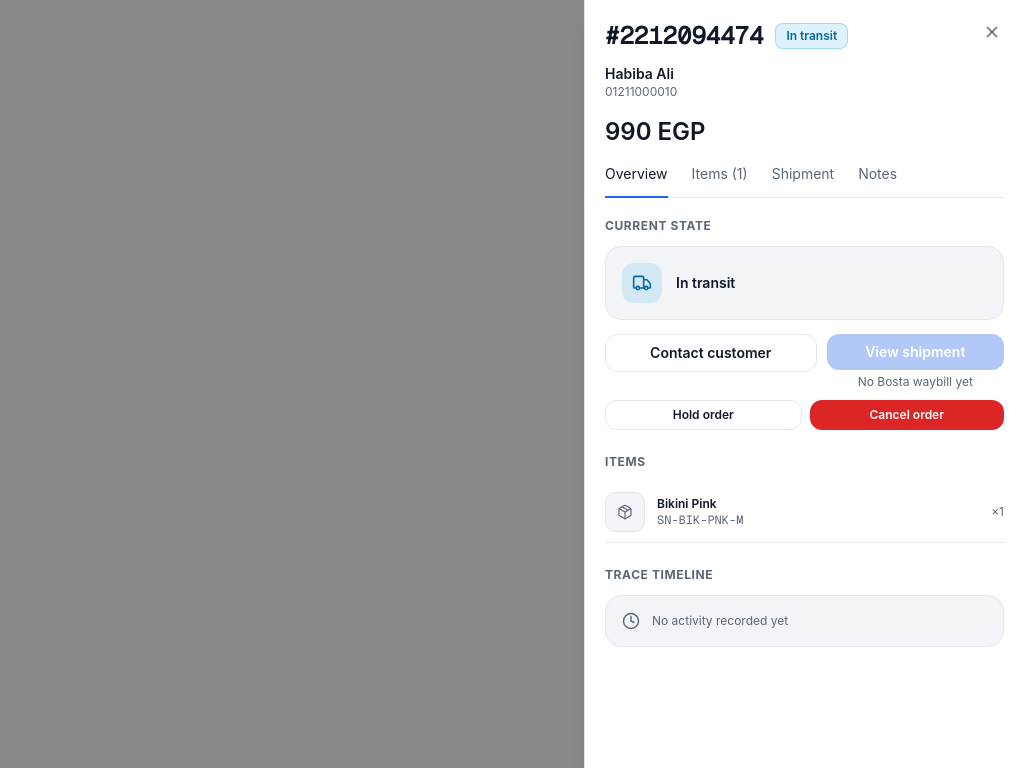
Scenario: add note: typing then submitting posts the note and it appears in the list
The width and height of the screenshot is (1024, 768).
Expected: the heading "#2212094474" is shown, [605, 20, 763, 52]
Step 1. Click the button "Notes" → x=878, y=181, box [858, 164, 897, 198]
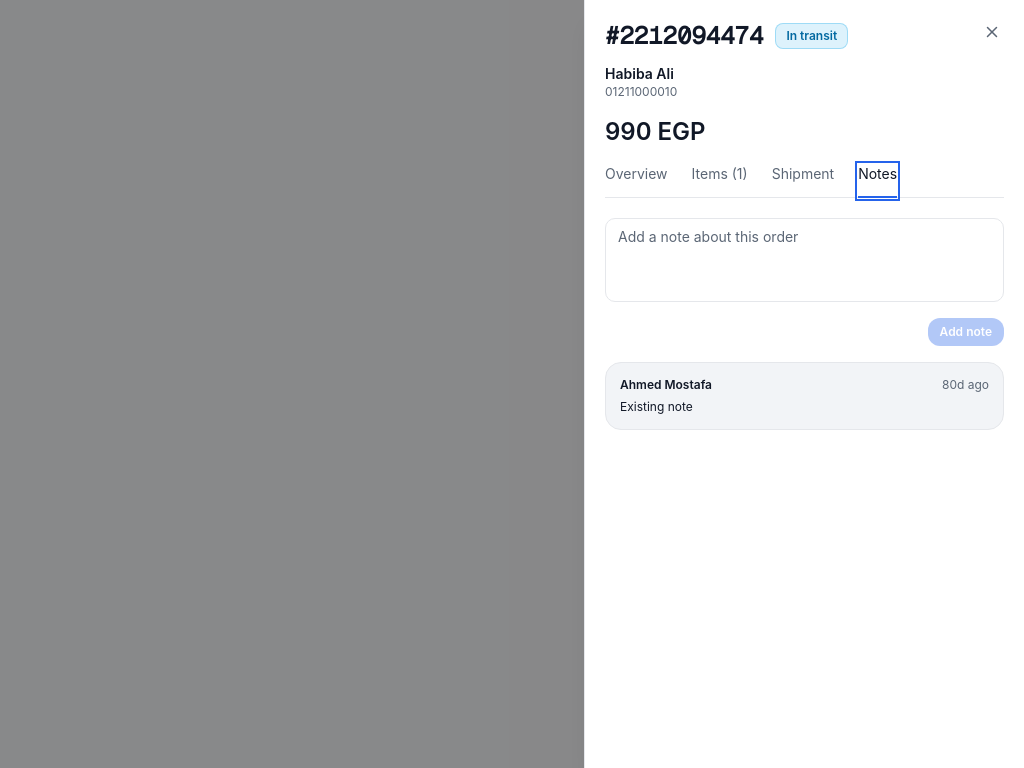
Result: the text "Existing note" is shown at [620, 399, 693, 414]
Result: the button "Add note" is disabled at [928, 318, 1004, 346]
Step 2. Type "Customer wants delivery after 6pm" into the text box with placeholder "Add a note about this order" → x=804, y=260, box [605, 218, 1004, 302]
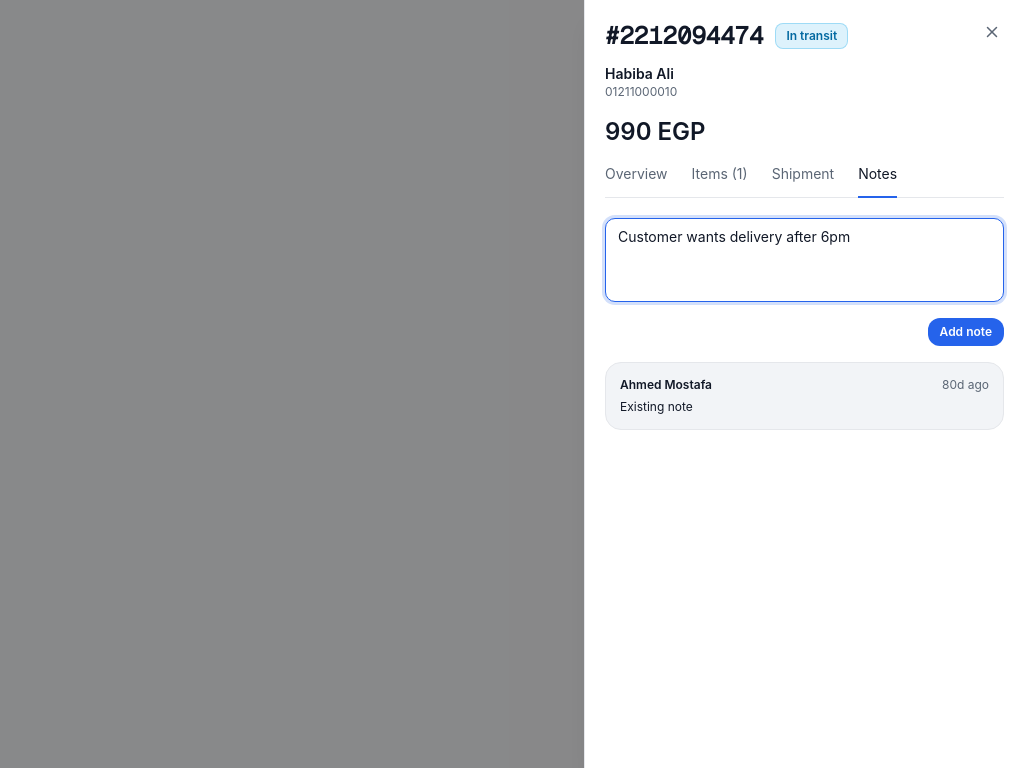
Result: the button "Add note" is enabled
Step 3. Click the button "Add note" → x=966, y=332, box [928, 318, 1004, 346]
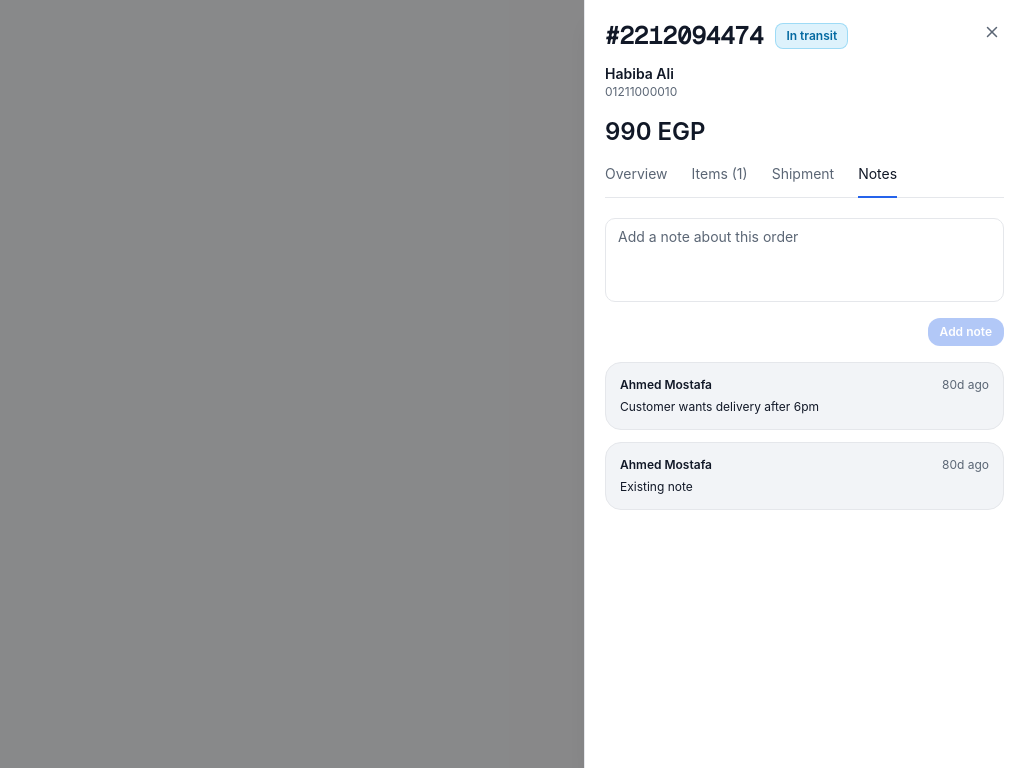
Result: the text "Existing note" is shown at [620, 479, 693, 494]
Result: the text "Customer wants delivery after 6pm" is shown at [620, 399, 819, 414]
Result: the text box with placeholder "Add a note about this order" is empty at [605, 218, 1004, 302]
